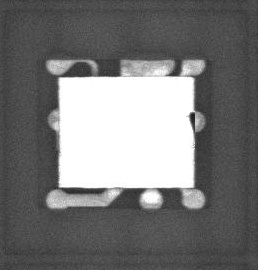DIE_BROKEN: (186, 109, 197, 133)
